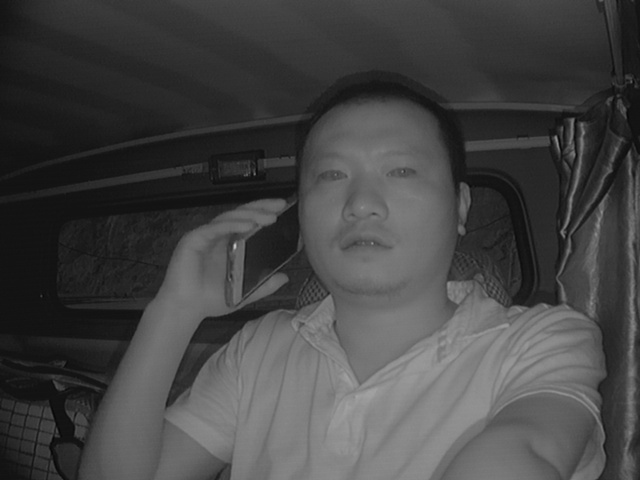hand: (172, 199, 290, 317)
